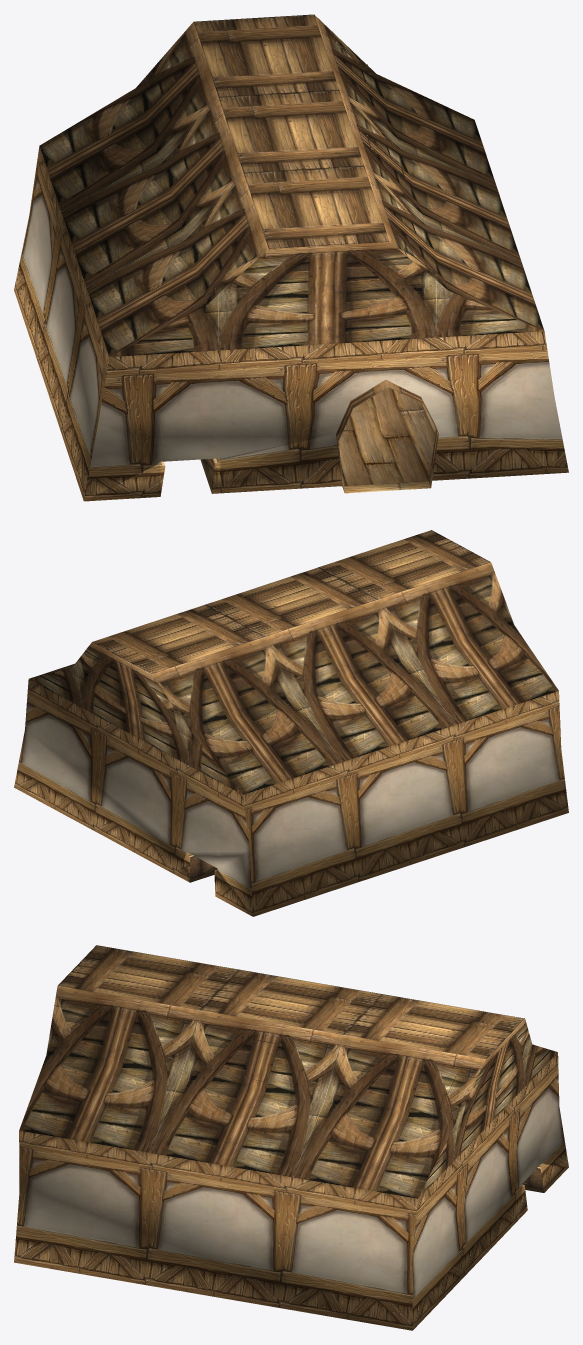
Rendered from stormwind_189.fbx.
3 renders of one model, top to bottom at view 1: azimuth 30°, elevation 25°; view 2: azimuth 150°, elevation 25°; view 3: azimuth 270°, elevation 25°, orthographic. The views are drawn at different scales.
Parts seen in each view (by area): view 1: stormwind_189_49, stormwind_189_48, stormwind_189_55, stormwind_189_51, stormwind_189_53; view 2: stormwind_189_48, stormwind_189_49, stormwind_189_55; view 3: stormwind_189_48, stormwind_189_49, stormwind_189_55.
Boxes of the visible parts, <box> form: stormwind_189_49: <box>39,15,544,492</box>; stormwind_189_48: <box>14,146,568,501</box>; stormwind_189_55: <box>194,14,389,248</box>; stormwind_189_51: <box>338,387,435,485</box>; stormwind_189_53: <box>132,31,483,493</box>; stormwind_189_48: <box>14,679,568,916</box>; stormwind_189_49: <box>29,562,558,794</box>; stormwind_189_55: <box>92,530,490,673</box>; stormwind_189_48: <box>14,1052,568,1330</box>; stormwind_189_49: <box>19,986,557,1198</box>; stormwind_189_55: <box>58,945,524,1058</box>.
Bounding box in the file's own units: 19.78 × 8.55 × 20.02.
